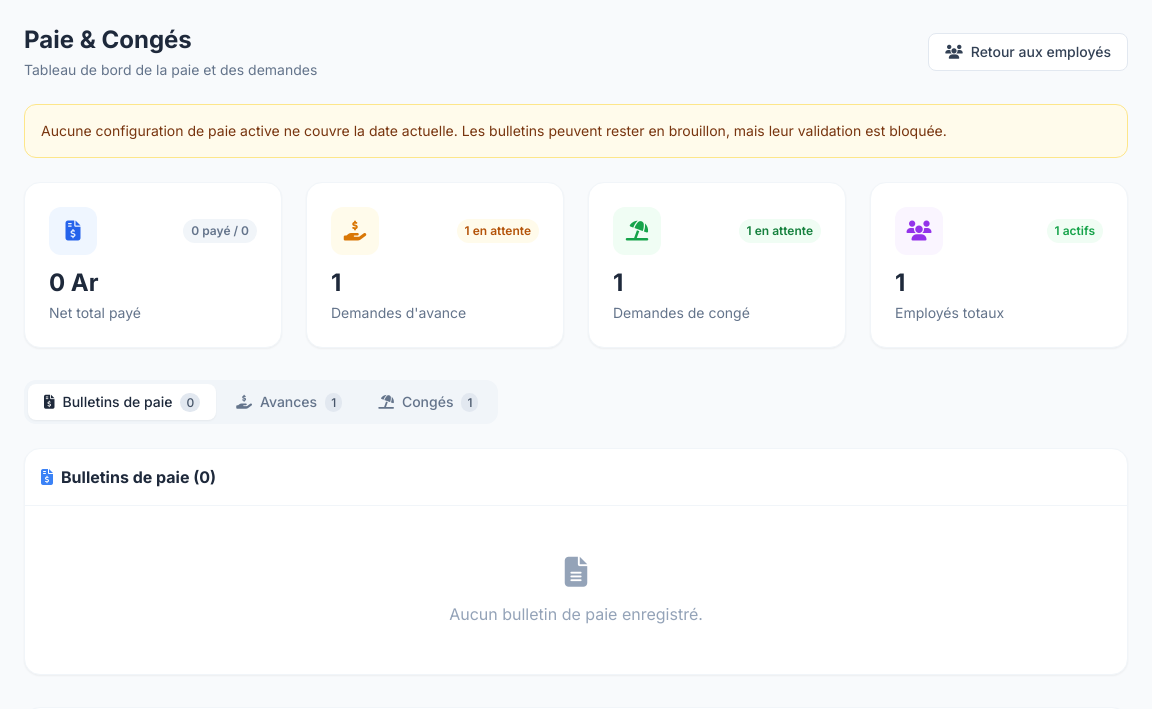
Scenario: HRPayrollPage (F16) › allows switching to advances and leaves tabs without errors
The image size is (1152, 709).
Expected: the heading "Bulletins de paie (0)" is shown, [41,467,216,487]
Note: Switch to advances tab
Click the button "Avances1" at point(289, 402), box [220,384,358,420]
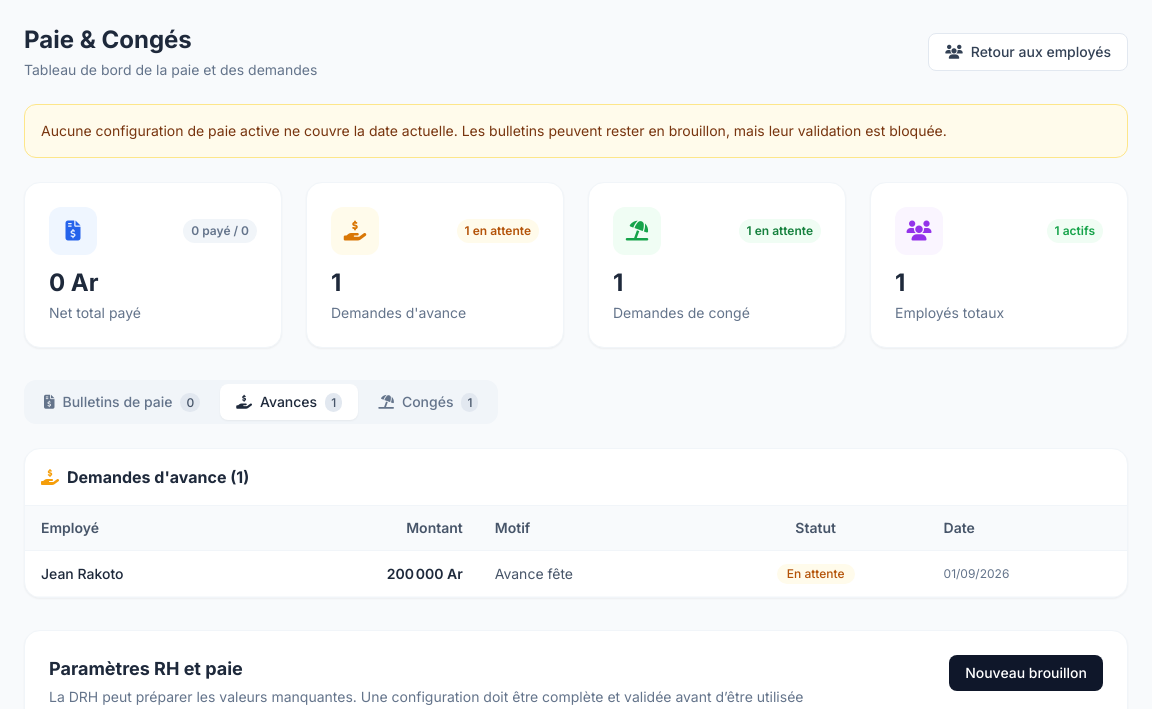
Now the heading "Demandes d'avance (1)" is shown, box [41,467,249,487]
Now the text "Avance fête" is shown, box [479,550,704,596]
Now the text "200 000 Ar" is shown, box [259,550,479,596]
Note: Switch to leaves tab
Click the button "Congés1" at point(428, 402), box [362,384,494,420]
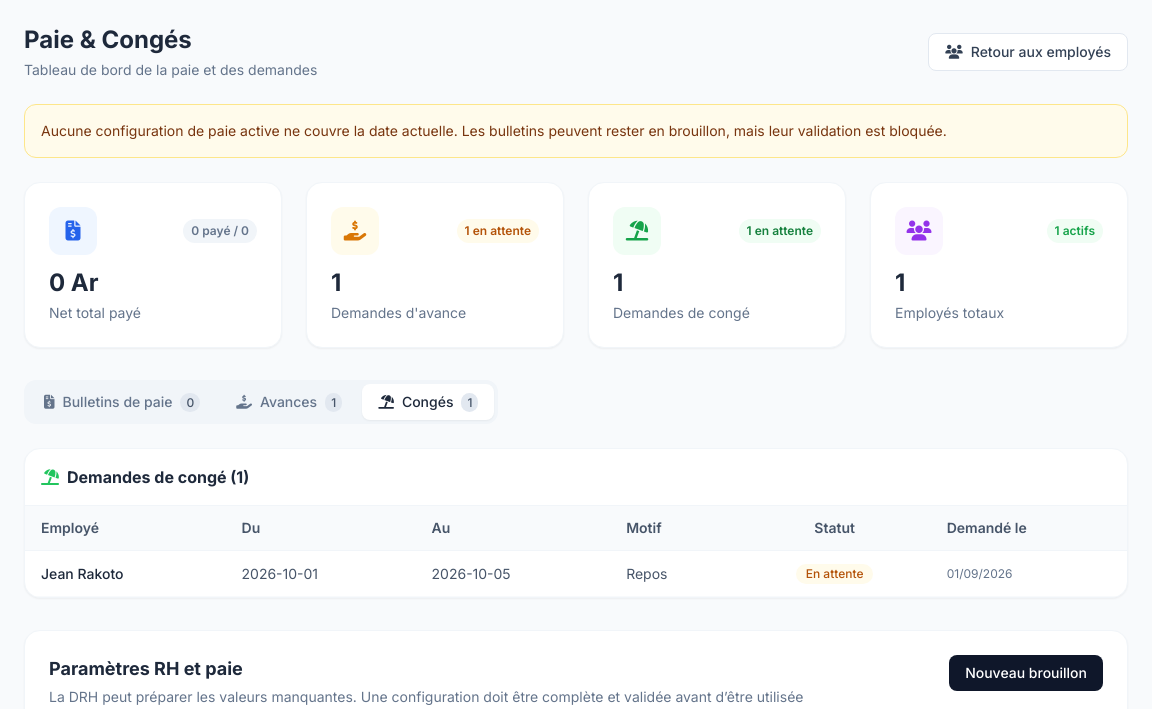
Now the heading "Demandes de congé (1)" is shown, box [41,467,249,487]
Now the text "Repos" is shown, box [610,550,738,596]
